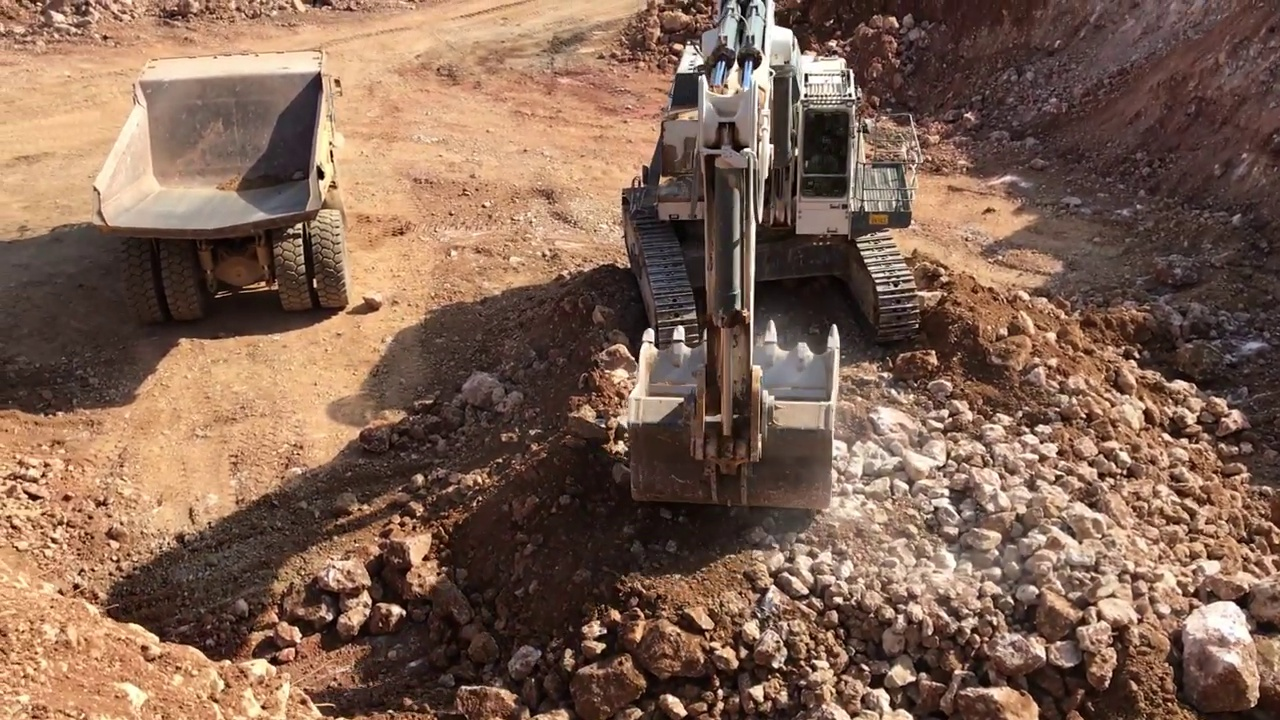dumper: (92, 51, 348, 322)
excavator: (621, 4, 924, 522)
